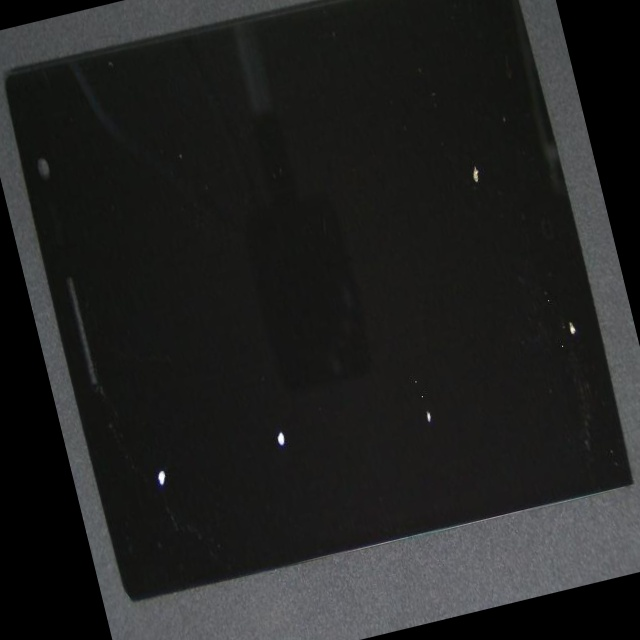stain: (186, 97, 640, 640), (278, 73, 640, 545), (220, 45, 637, 417), (119, 206, 421, 640), (69, 256, 254, 640)
